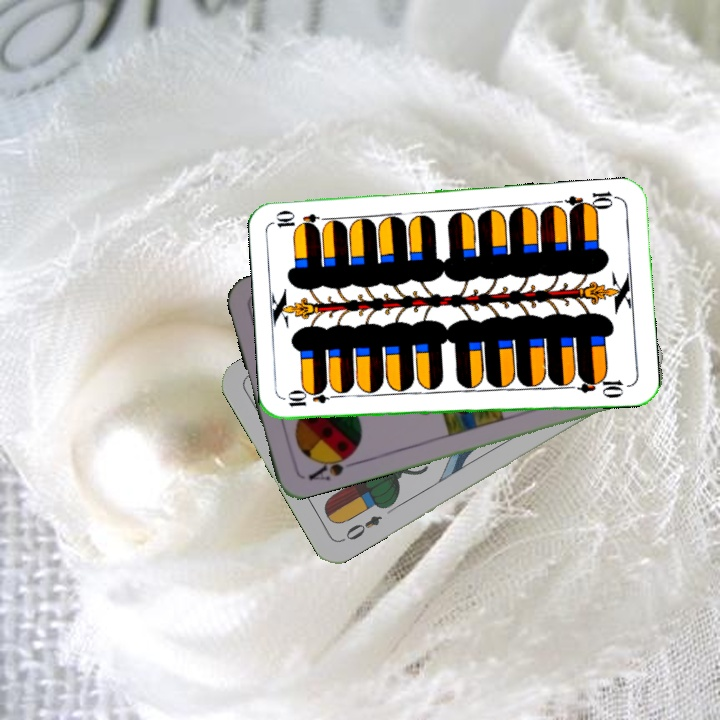E10: (562, 187, 621, 215), (284, 389, 343, 410)
EO: (337, 511, 385, 545)
SA: (304, 448, 359, 483)
